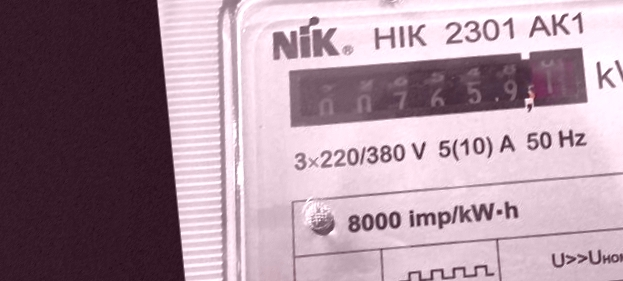0: (353, 91, 375, 118), (315, 94, 336, 121)
1: (541, 66, 558, 99)
5: (462, 78, 486, 107)
6: (426, 85, 447, 110)
7: (389, 88, 412, 115)
9: (500, 76, 520, 105)
screen: (275, 29, 600, 150)
